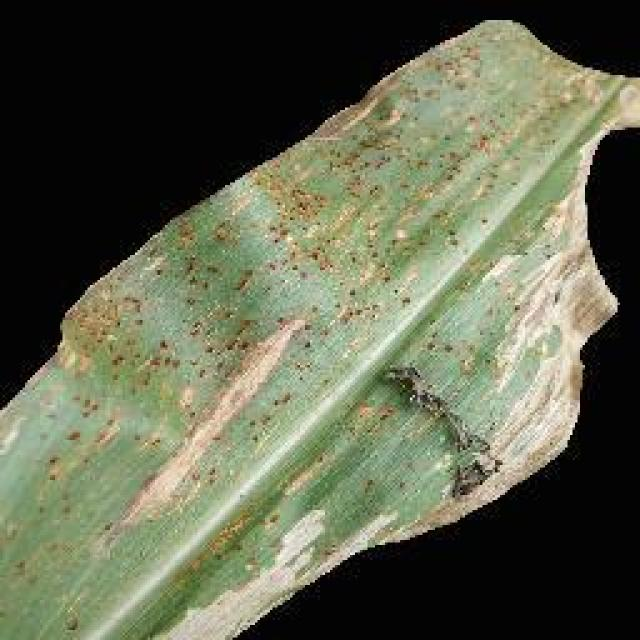Corn Common Rust: (97, 80, 520, 522)
